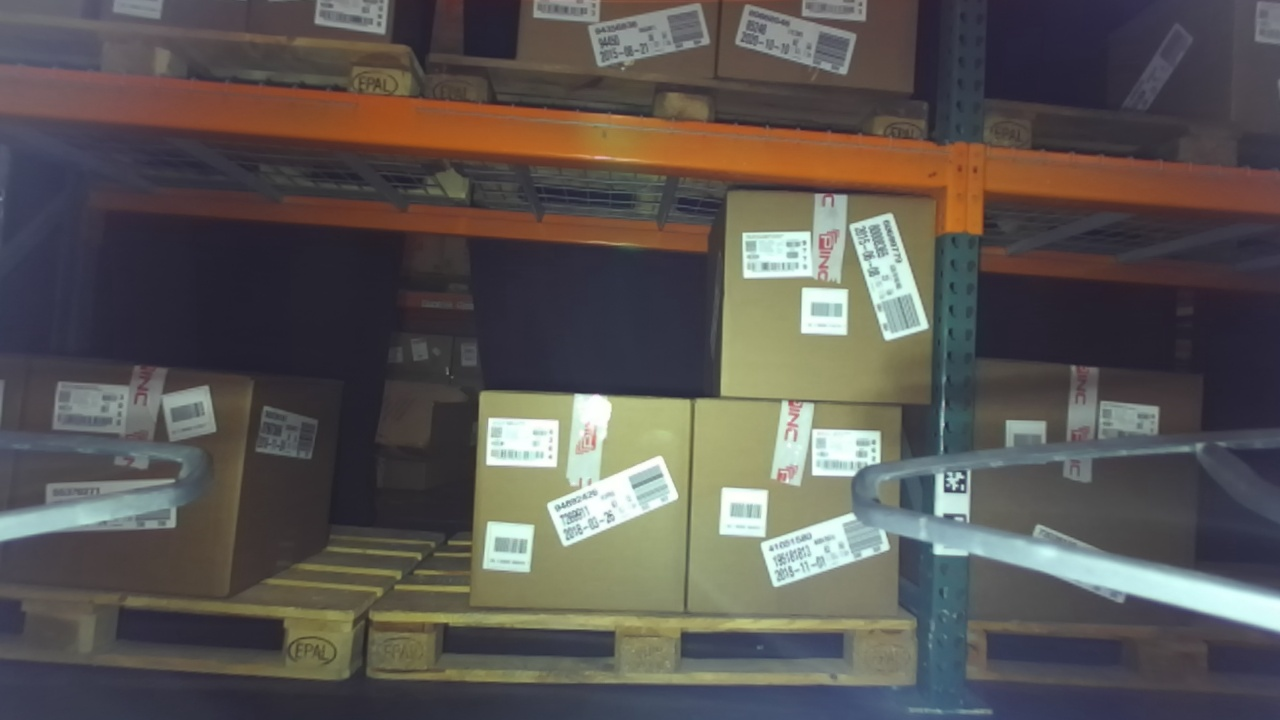box: (954, 345, 1218, 643), (2, 335, 264, 623), (437, 376, 710, 640), (686, 171, 961, 420), (674, 373, 908, 631)
